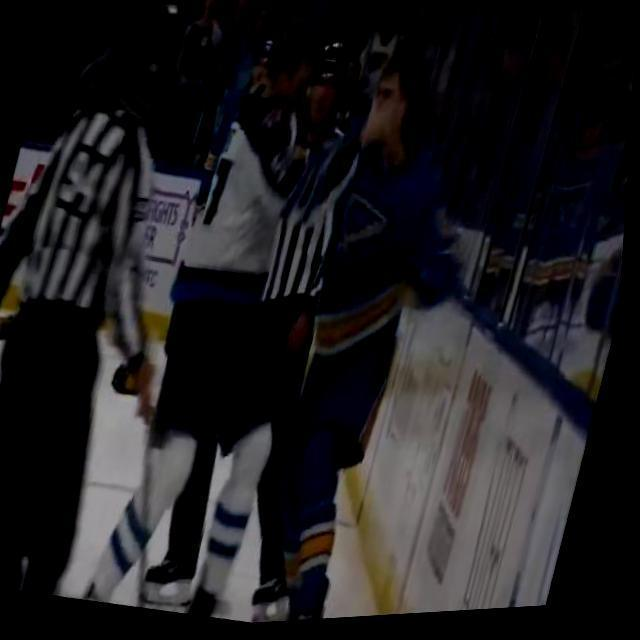fight: (122, 11, 514, 570)
